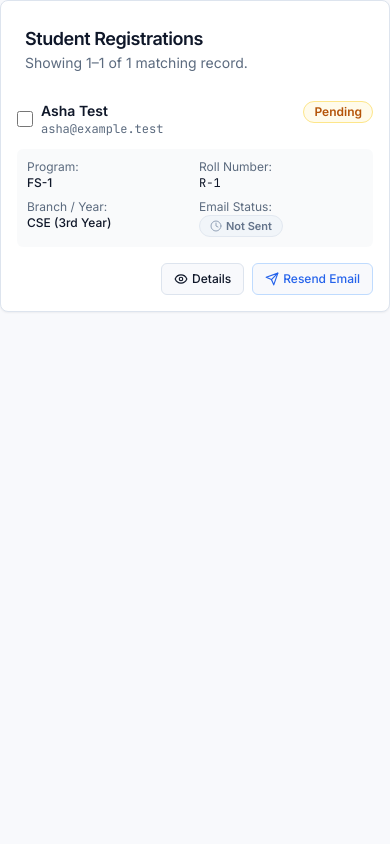
it: Enrollments: single Resend Email asks first › opens a confirmation naming the recipient and sends nothing yet
This screenshot has width=390, height=844.
Click the button "Resend Email". click: (313, 279)
box: [252,263,373,295]
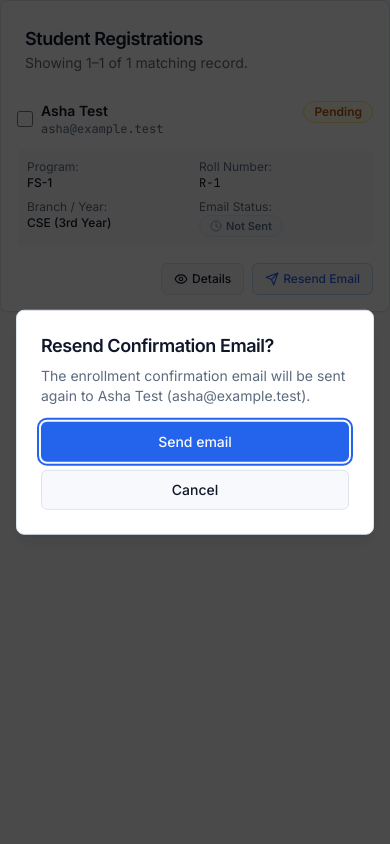
Check: the heading "Resend Confirmation Email?" is shown, box [41,335,274,356]
Check: the text "Asha Test (asha@example.test)" is shown, box [41,366,345,403]
